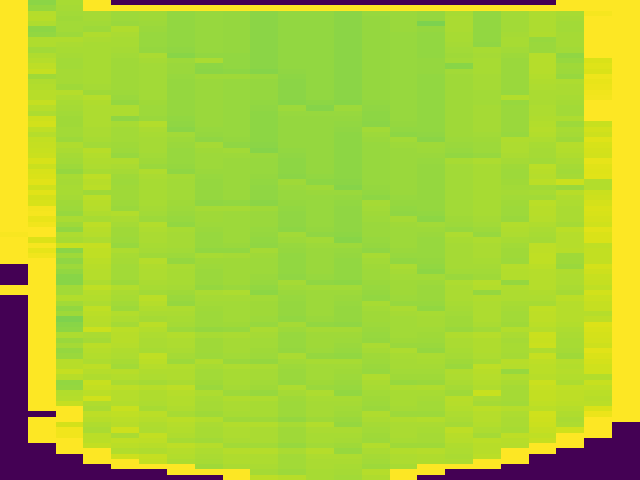cylinder: (5, 2, 640, 480)
